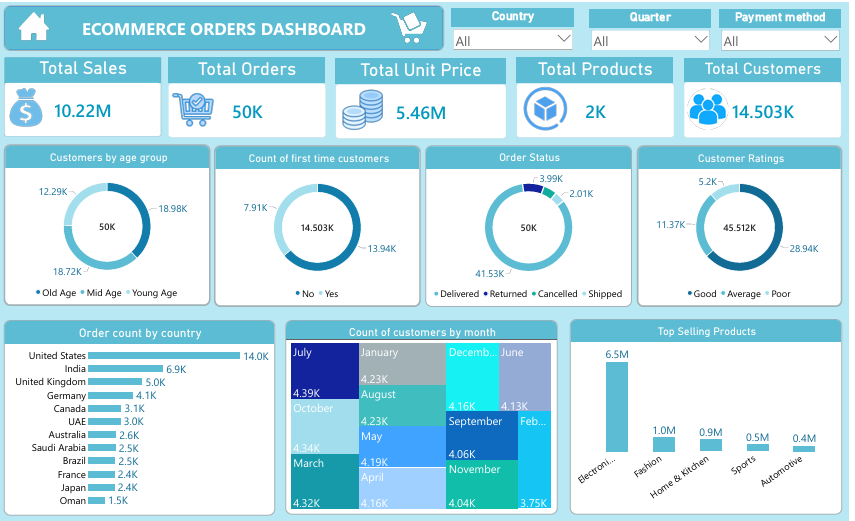

This screenshot's page, from the dashboard's own definition file:
{"tool":"powerbi","page":{"name":"Page 1","canvas":[2560,1560],"ordinal":0},"visuals":[{"type":"barChart","title":"Order count by country","fields":{"Category":["ecommerce_orders 1 saf.country"],"Y":["CountNonNull(ecommerce_orders 1 saf.order_id)"]},"box":[23.4,951.2,815,586.6],"z":0},{"type":"cardVisual","title":"Total Sales","fields":{"Data":["Sum(ecommerce_orders 1 saf.total_amount)"]},"box":[25,162.2,470.6,238],"z":1000},{"type":"cardVisual","title":"Total Orders","fields":{"Data":["Count(ecommerce_orders 1 saf.order_id)"]},"box":[517.9,165.4,471.1,238],"z":2000},{"type":"donutChart","title":"Order Status","fields":{"Category":["ecommerce_orders 1 saf.order_status"],"Y":["Count(ecommerce_orders 1 saf.order_id)"]},"box":[1288.3,427.2,620.8,485],"z":3000},{"type":"slicer","title":"Quarter","fields":{"Values":["ecommerce_orders 1 saf.order_date.Variation.Date Hierarchy.Quarter"]},"box":[1781.5,18.7,365,121.7],"z":4000},{"type":"slicer","title":"Country","fields":{"Values":["ecommerce_orders 1 saf.country"]},"box":[1368.4,16.7,367.1,126.8],"z":5000},{"type":"columnChart","title":"Top Selling Products","fields":{"Category":["ecommerce_orders 1 saf.category"],"Y":["Sum(ecommerce_orders 1 saf.total_amount)"]},"box":[1722.2,947.9,817.7,587.4],"z":6000},{"type":"shape","box":[23.4,6.7,1321.7,136.8],"z":7000},{"type":"cardVisual","title":"Total Unit Price","fields":{"Data":["Sum(ecommerce_orders 1 saf.unit_price)"]},"box":[1020.2,168.5,510.7,238],"z":8000},{"type":"cardVisual","title":"Total Products","fields":{"Data":["Count(ecommerce_orders 1 saf.product_id)"]},"box":[1563.1,165.4,471.1,238],"z":9000},{"type":"donutChart","title":"Customers by age group","fields":{"Category":["ecommerce_orders 1 saf.Age group"],"Y":["CountNonNull(ecommerce_orders 1 saf.customer_id)"]},"box":[23.4,423.9,620.8,485],"z":10000},{"type":"cardVisual","title":"Total Customers","fields":{"Data":["Count(ecommerce_orders 1 saf.customer_id)"]},"box":[2066,166.9,470.6,237],"z":11000},{"type":"donutChart","title":"Count of first time customers","fields":{"Category":["ecommerce_orders 1 saf.First Order"],"Y":["Count(ecommerce_orders 1 saf.customer_id)"]},"box":[654.2,427.2,620.8,485],"z":12000},{"type":"donutChart","title":"Customer Ratings","fields":{"Category":["ecommerce_orders 1 saf.Ratings"],"Y":["CountNonNull(ecommerce_orders 1 saf.customer_rating)"]},"box":[1922.5,427.2,617.5,485],"z":13000},{"type":"image","box":[1141.5,23.4,196.9,103.5],"z":14000},{"type":"image","box":[0,0,227,150.2],"z":15000},{"type":"slicer","title":"Payment method","fields":{"Values":["ecommerce_orders 1 saf.payment_method"]},"box":[2171.5,18.7,365,149.8],"z":16000},{"type":"treemap","title":"Count of customers by month","fields":{"Group":["ecommerce_orders 1 saf.order_date.Variation.Date Hierarchy.Month"],"Values":["CountNonNull(ecommerce_orders 1 saf.customer_id)"]},"box":[867.8,951.2,817.7,584.1],"z":17000},{"type":"image","box":[40.1,247,100.1,130.2],"z":18000},{"type":"image","box":[500.7,253.7,180.2,133.5],"z":19000},{"type":"image","box":[994.6,257,210.3,126.8],"z":20000},{"type":"image","box":[1575.4,247,146.9,140.2],"z":21000},{"type":"image","box":[2039.3,257,193.6,123.5],"z":22000}]}

Visuals, with their boxes in screenshot pixels (x1, y1, x2, y2), scaled from the page's 2560x1560 canvas onto the 855x521 screenshot:
"Order count by country" barChart: <box>8,318,280,514</box>
"Total Sales" cardVisual: <box>8,54,166,134</box>
"Total Orders" cardVisual: <box>173,55,330,135</box>
"Order Status" donutChart: <box>430,143,638,305</box>
"Quarter" slicer: <box>595,6,717,47</box>
"Country" slicer: <box>457,6,580,48</box>
"Top Selling Products" columnChart: <box>575,317,848,513</box>
shape: <box>8,2,449,48</box>
"Total Unit Price" cardVisual: <box>341,56,511,136</box>
"Total Products" cardVisual: <box>522,55,679,135</box>
"Customers by age group" donutChart: <box>8,142,215,304</box>
"Total Customers" cardVisual: <box>690,56,847,135</box>
"Count of first time customers" donutChart: <box>218,143,426,305</box>
"Customer Ratings" donutChart: <box>642,143,848,305</box>
image: <box>381,8,447,42</box>
image: <box>0,0,76,50</box>
"Payment method" slicer: <box>725,6,847,56</box>
"Count of customers by month" treemap: <box>290,318,563,513</box>
image: <box>13,82,47,126</box>
image: <box>167,85,227,129</box>
image: <box>332,86,402,128</box>
image: <box>526,82,575,129</box>
image: <box>681,86,746,127</box>
